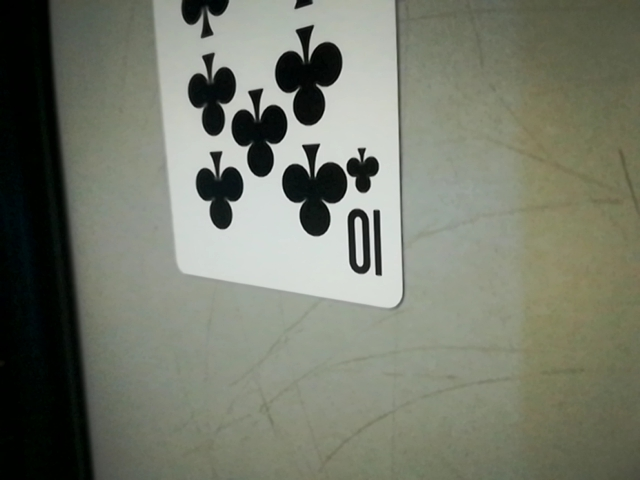mh 10: (340, 147, 394, 295)
